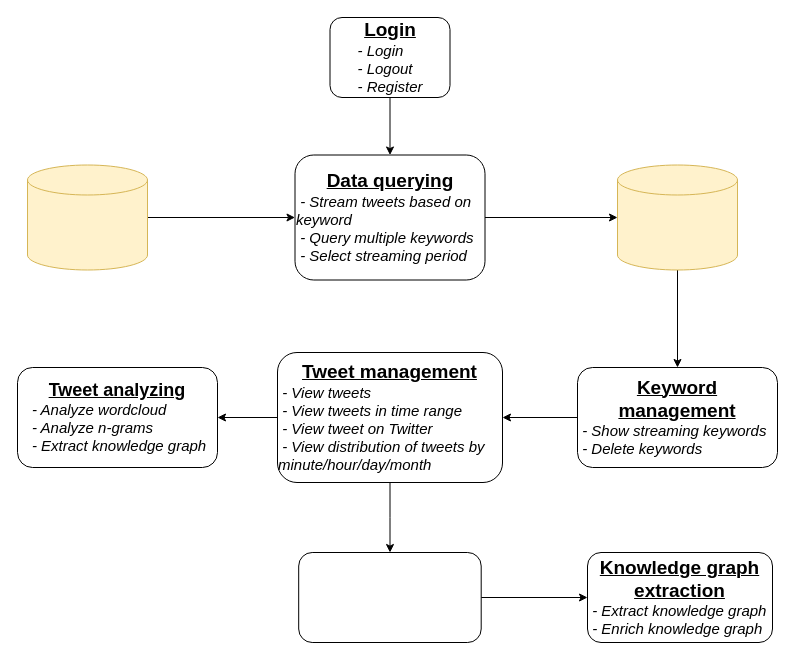
Image size: 795x660. Some labels were removed from this diagram. Here are the shapes that lost their labels. From the top down, the centre of each, then its label:
the point at 87,217: Social networks
the point at 677,217: Database
the point at 389,597: Event extraction - Suggest topics - Visualize time sequence - Extract events
